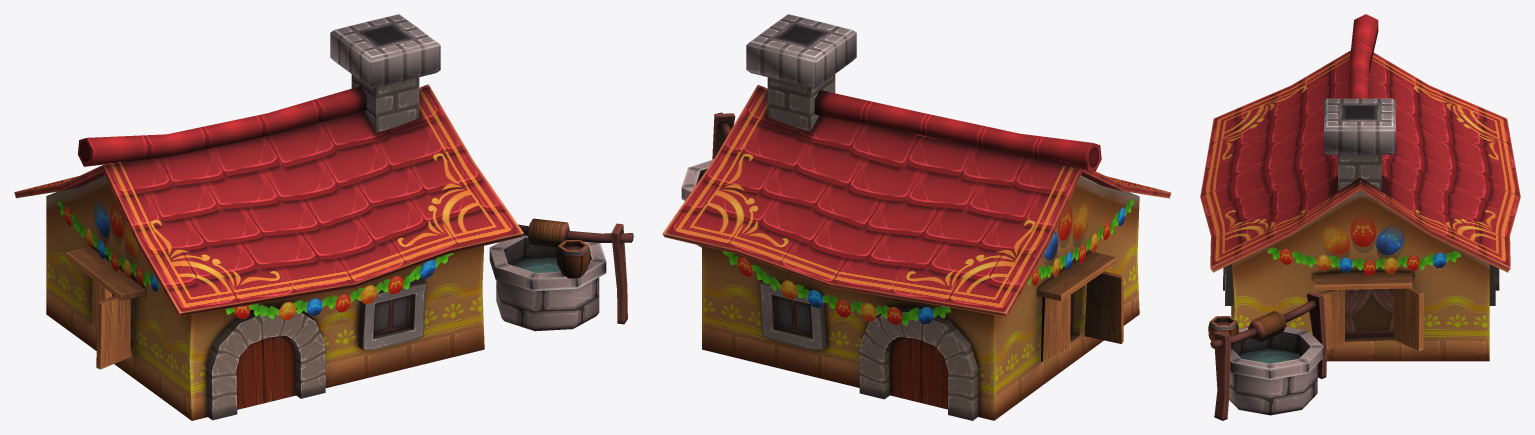
The model's file is House_01_F.FBX.
3 views of the same model, side by side, from view 1: azimuth 30°, elevation 25°; view 2: azimuth 150°, elevation 25°; view 3: azimuth 270°, elevation 25° (orthographic). The views are drawn at different scales.
Visible parts, largest first — view 1: House_01_F, Plane767; view 2: House_01_F, Plane767; view 3: House_01_F, Plane767.
Boxes of the visible parts, left/top/right/bottom form: House_01_F: left=14, top=14, right=633, bottom=420; Plane767: left=57, top=200, right=453, bottom=320; House_01_F: left=662, top=14, right=1171, bottom=420; Plane767: left=723, top=199, right=1133, bottom=325; House_01_F: left=1200, top=14, right=1520, bottom=420; Plane767: left=1267, top=247, right=1460, bottom=275.
Bounding box in the file's own units: 2.84 × 1.54 × 1.89.
